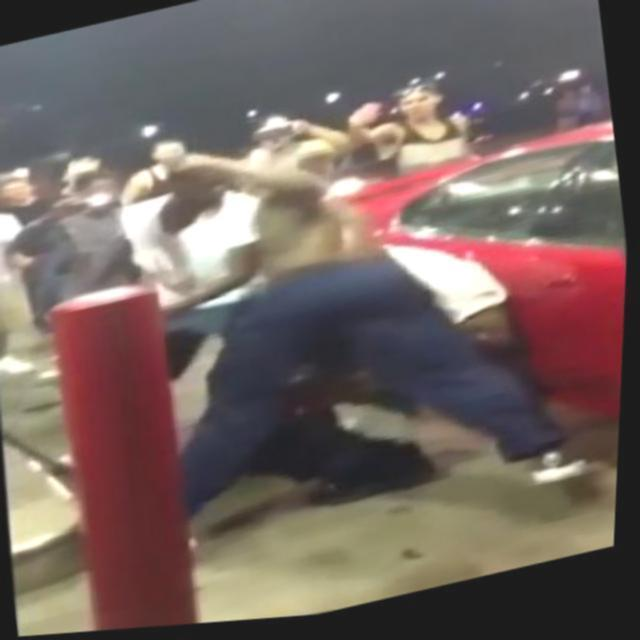fight: (102, 94, 549, 536)
